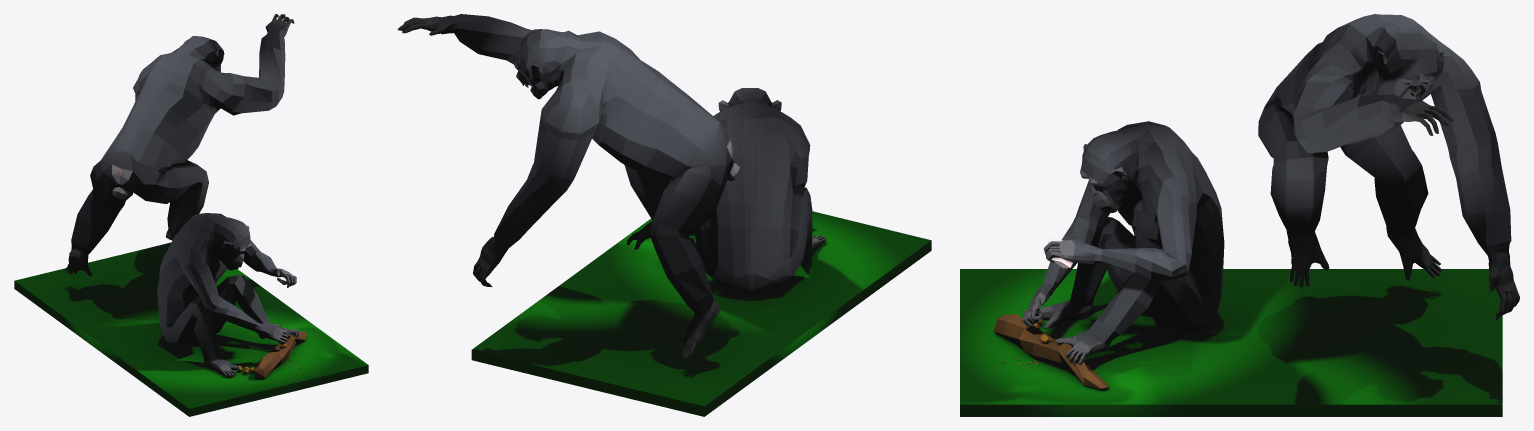
The model's file is chimps.glb.
3 views of the same model, side by side, from view 1: azimuth 30°, elevation 25°; view 2: azimuth 150°, elevation 25°; view 3: azimuth 270°, elevation 25° (orthographic). The views are drawn at different scales.
Parts seen in each view (by area): view 1: Chimpanzee.original.001; view 2: Chimpanzee.original.001; view 3: Chimpanzee.original.001.
Part boxes in pixels (<box>): Chimpanzee.original.001: <box>14,14,368,416</box>; Chimpanzee.original.001: <box>397,14,931,416</box>; Chimpanzee.original.001: <box>960,14,1519,416</box>.
Size of the model in its own units: 1.49 by 1.31 by 1.81.
Materials: 1 (1 with a texture image).
